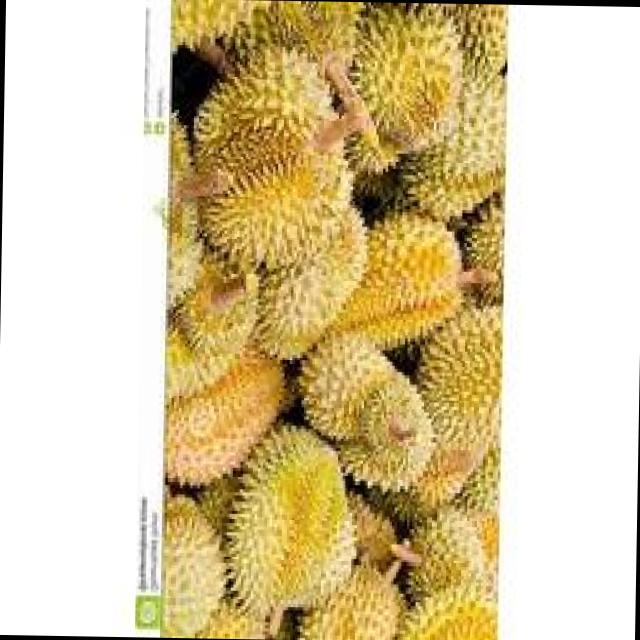fruit: (172, 114, 396, 380), (320, 0, 516, 237), (186, 413, 388, 638)
